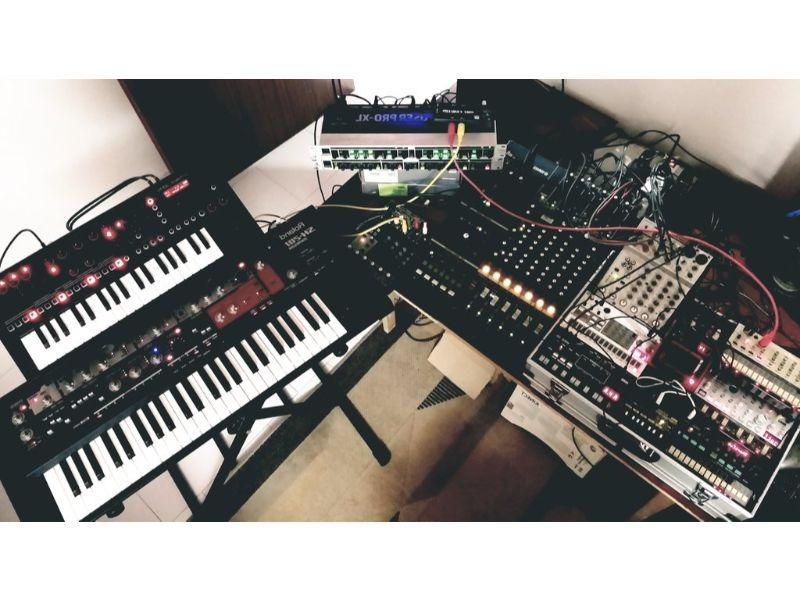synthesizer: (13, 347, 318, 474), (12, 206, 248, 311)
